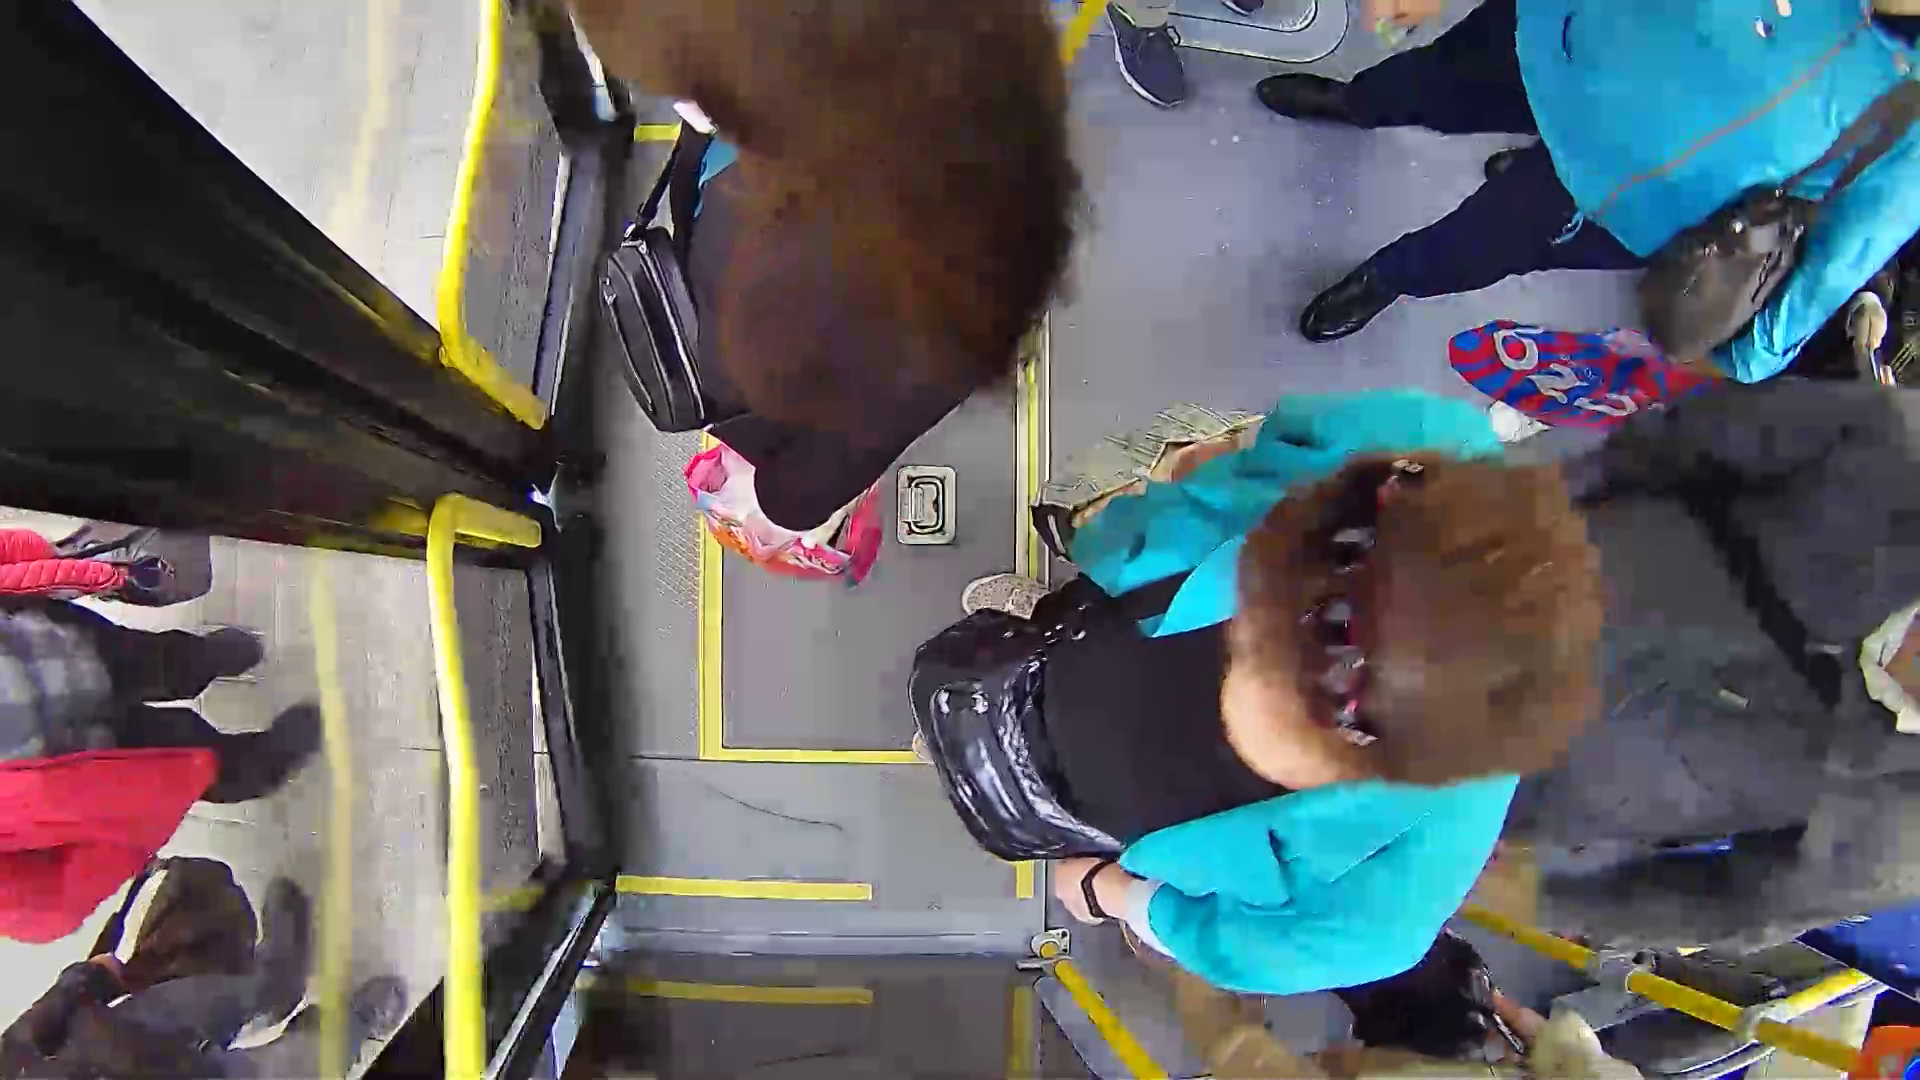person: (933, 335, 1628, 1014), (515, 14, 1261, 567)
